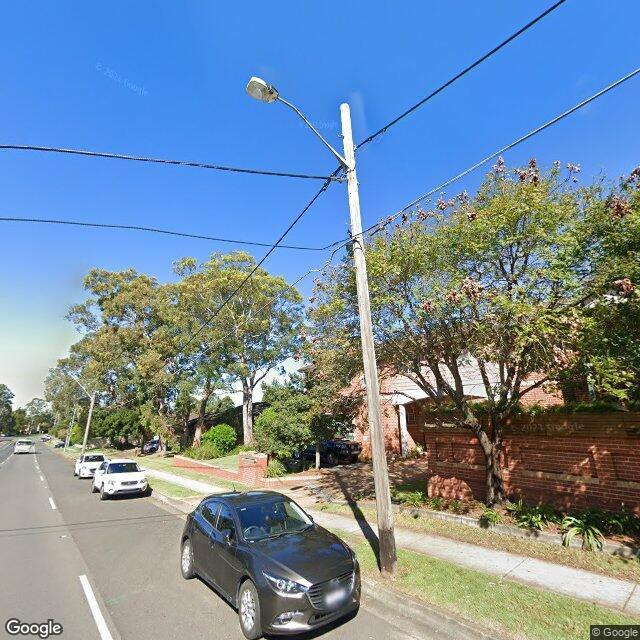streetlight: (246, 76, 352, 170)
timber-pole: (340, 104, 399, 578), (80, 392, 96, 455)
